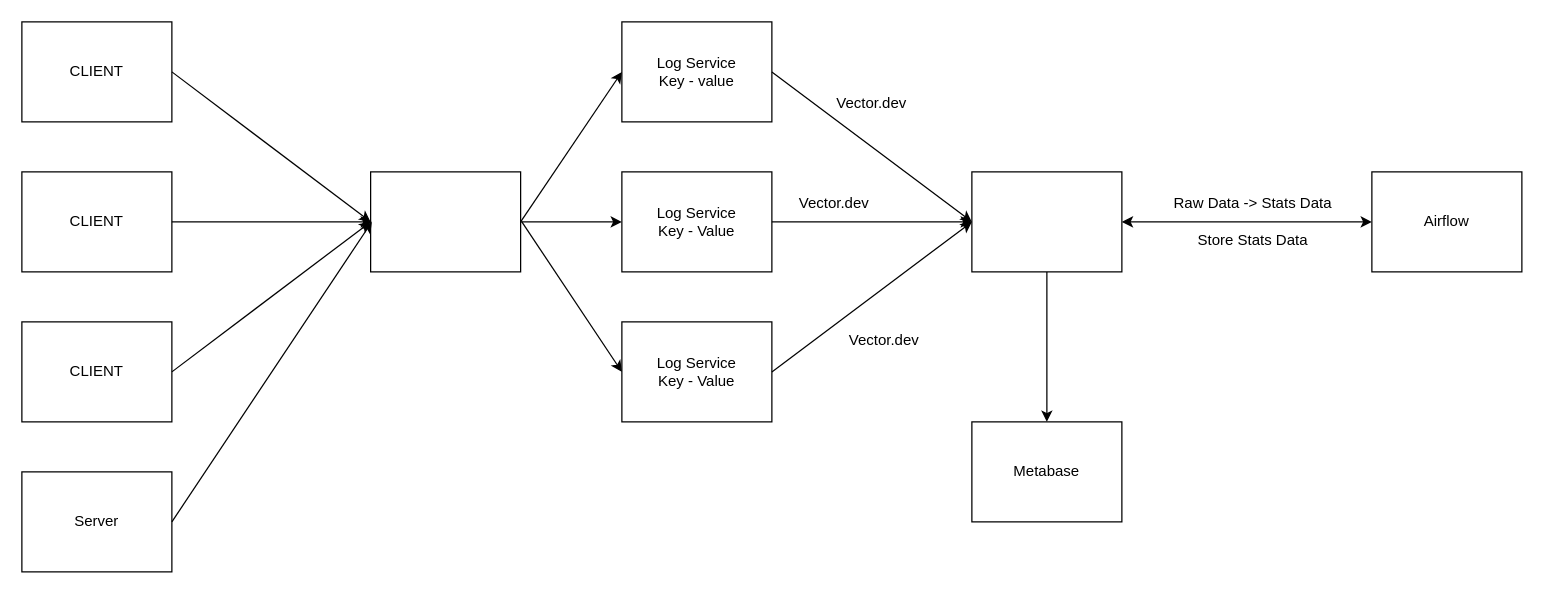
The diagram is 1544 pixels wide and 594 high, and some of its shapes have lost their labels. Each missing label, with the centre of its shape:
ClickHouse DB: point 1046,221
Nginx Load Balancer: point 445,221
